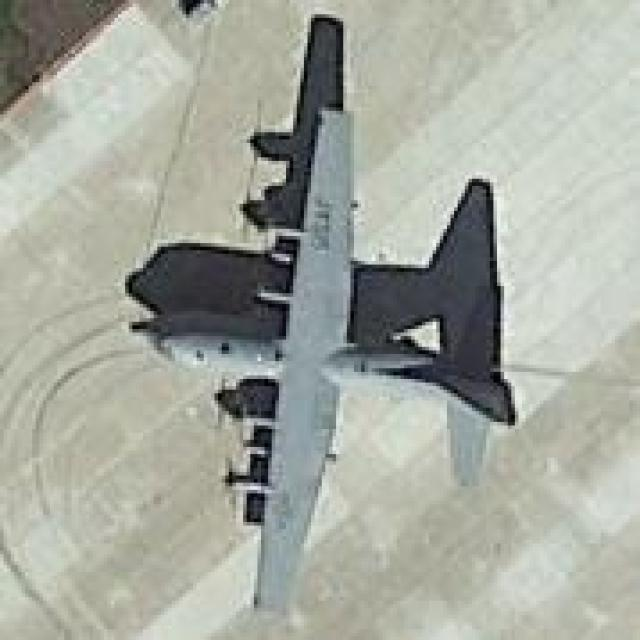C-130_TopDown: (116, 14, 520, 618)
